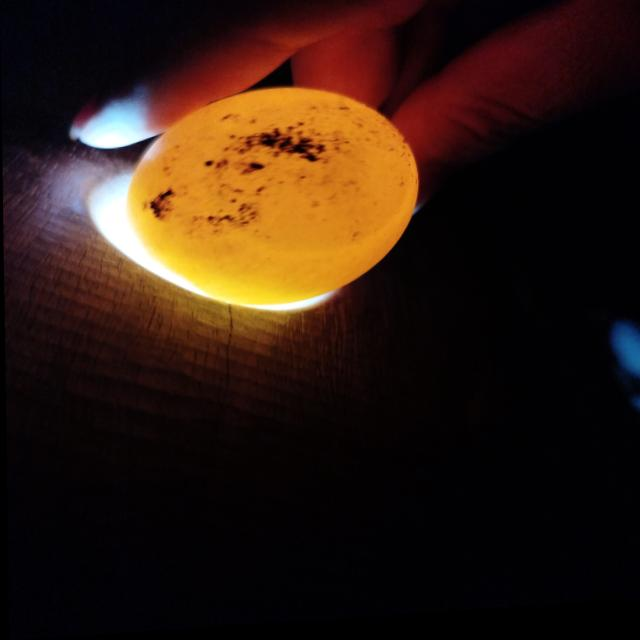Camara de Ar: (215, 114, 408, 256)
